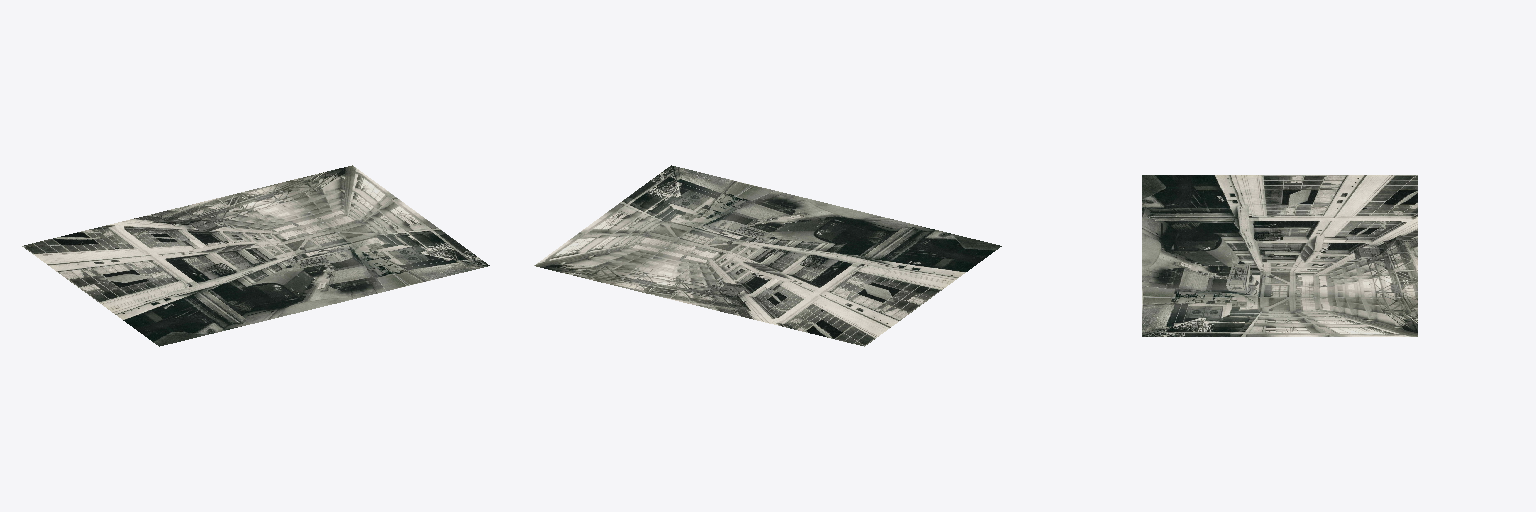
3 renders of one model, left to right at view 1: azimuth 30°, elevation 25°; view 2: azimuth 150°, elevation 25°; view 3: azimuth 270°, elevation 25°, orthographic.
Parts seen in each view (by area): view 1: Plane001; view 2: Plane001; view 3: Plane001.
Boxes of the visible parts, <box> form: Plane001: <box>22,165,489,346</box>; Plane001: <box>534,165,1001,346</box>; Plane001: <box>1142,175,1417,336</box>.
Bounding box in the file's own units: 3.63 × 0 × 2.61.
Materials: 1 (1 with a texture image).